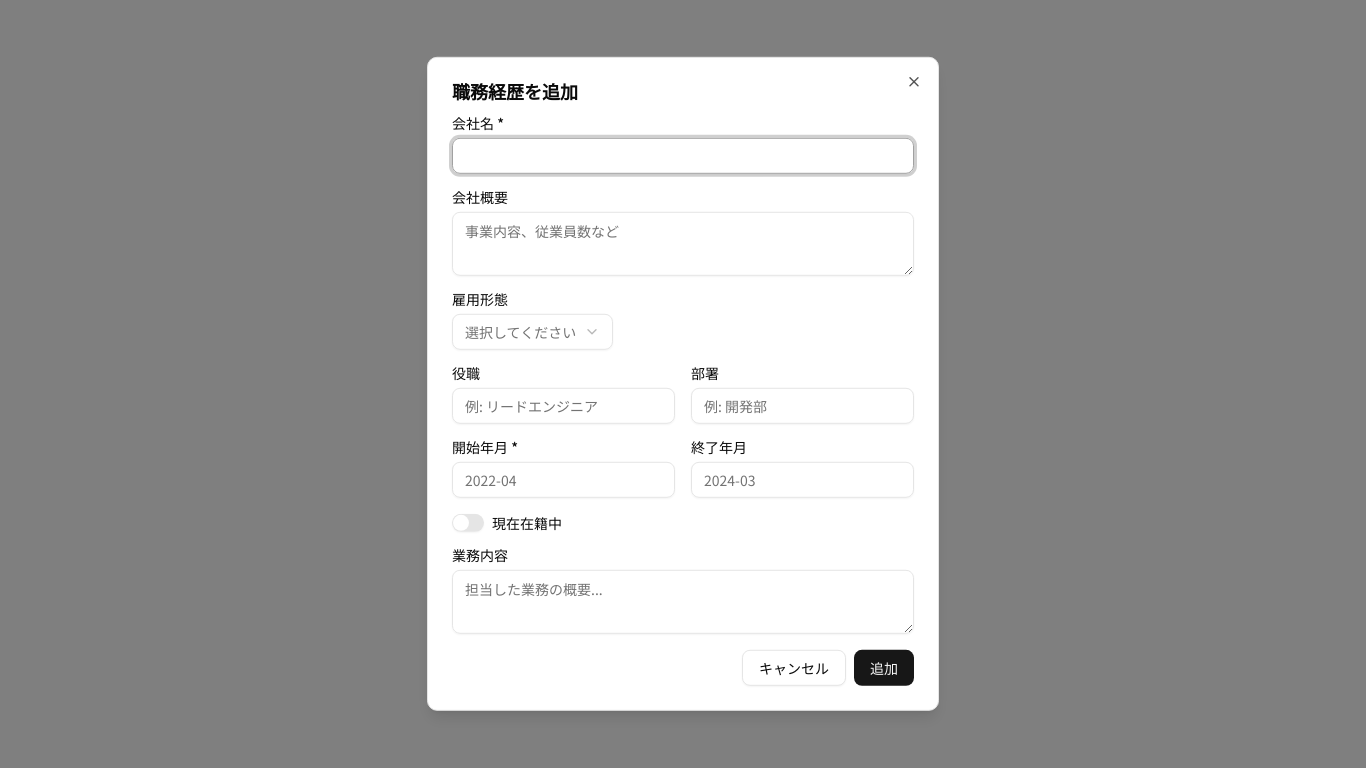
it: WorkHistoryFormDialog › when the isCurrent switch is toggled › should disable the end date field when toggled on
What coordinates should you click on to do the following:
click the switch
I would click on:
 (468, 523)
Its box is 452,514 -> 484,532.
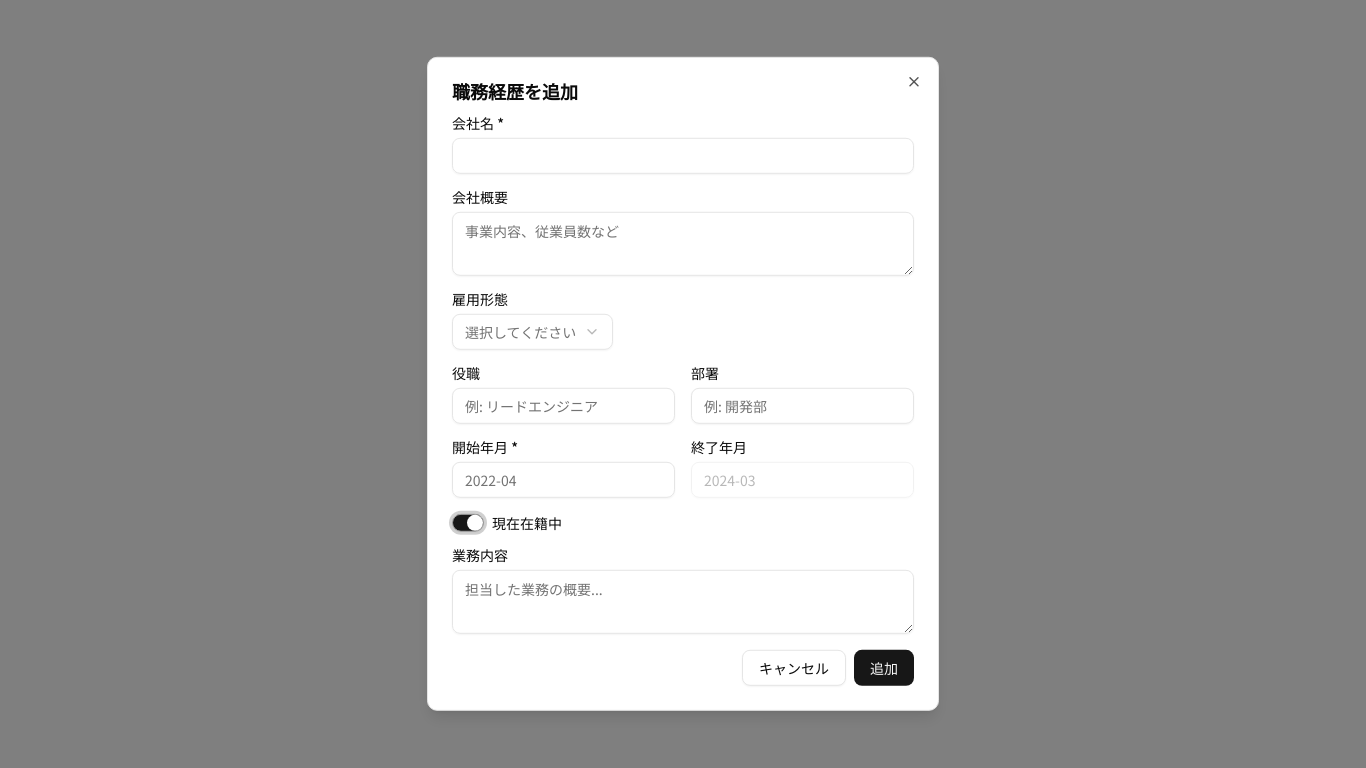
Now the field with placeholder "2024-03" is disabled, box 691,462 -> 914,498
